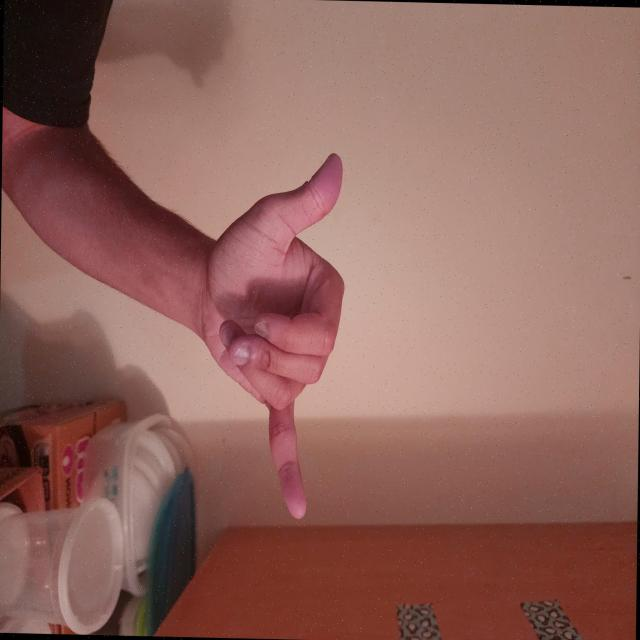Y: (264, 388, 553, 606)
